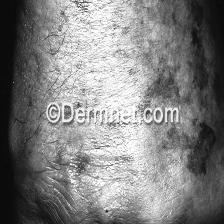Benign Marking or Mole: (54, 0, 123, 93), (146, 54, 216, 101), (58, 135, 112, 186), (188, 116, 220, 182)
